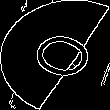O_SE: (14, 24, 96, 86)
